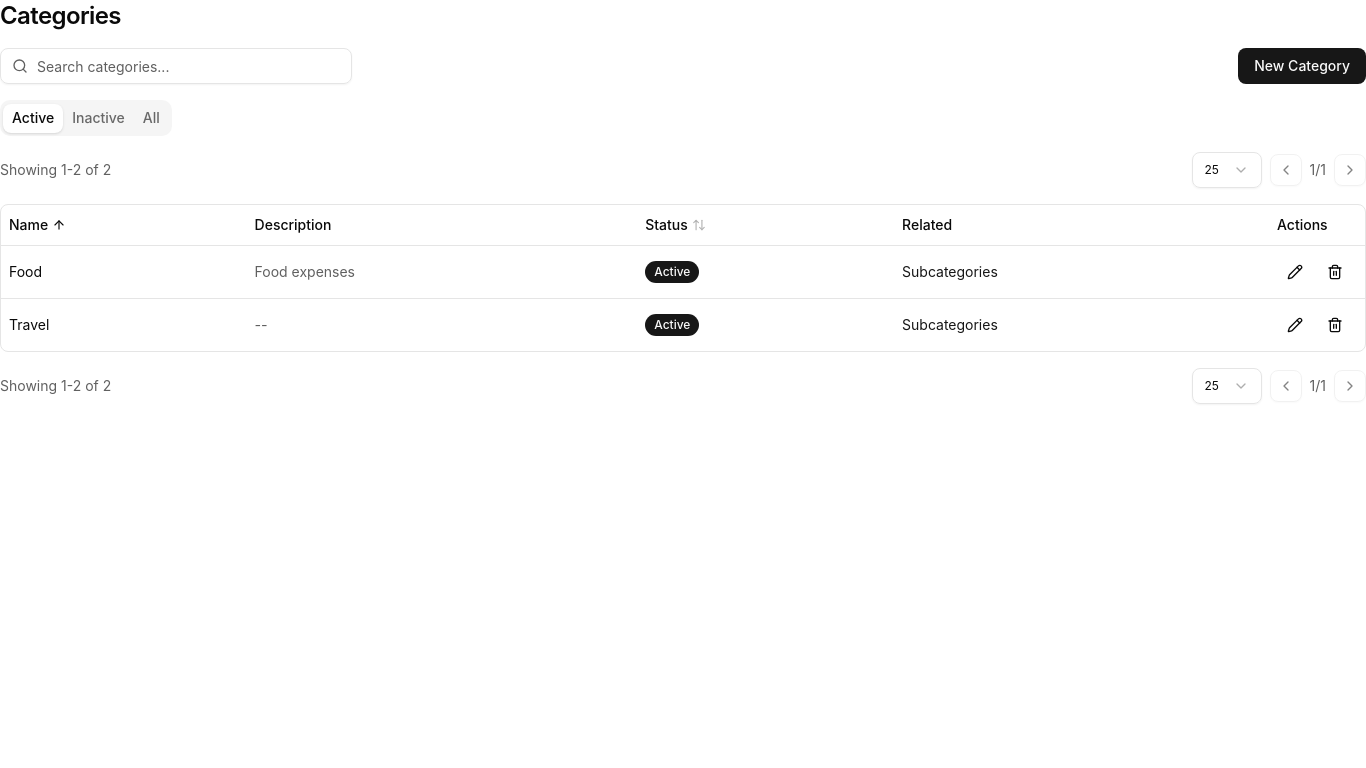
Categories › opens create dialog when New Category button is clicked
Click the button "New Category": (1302, 66) left=1238, top=48, right=1365, bottom=84
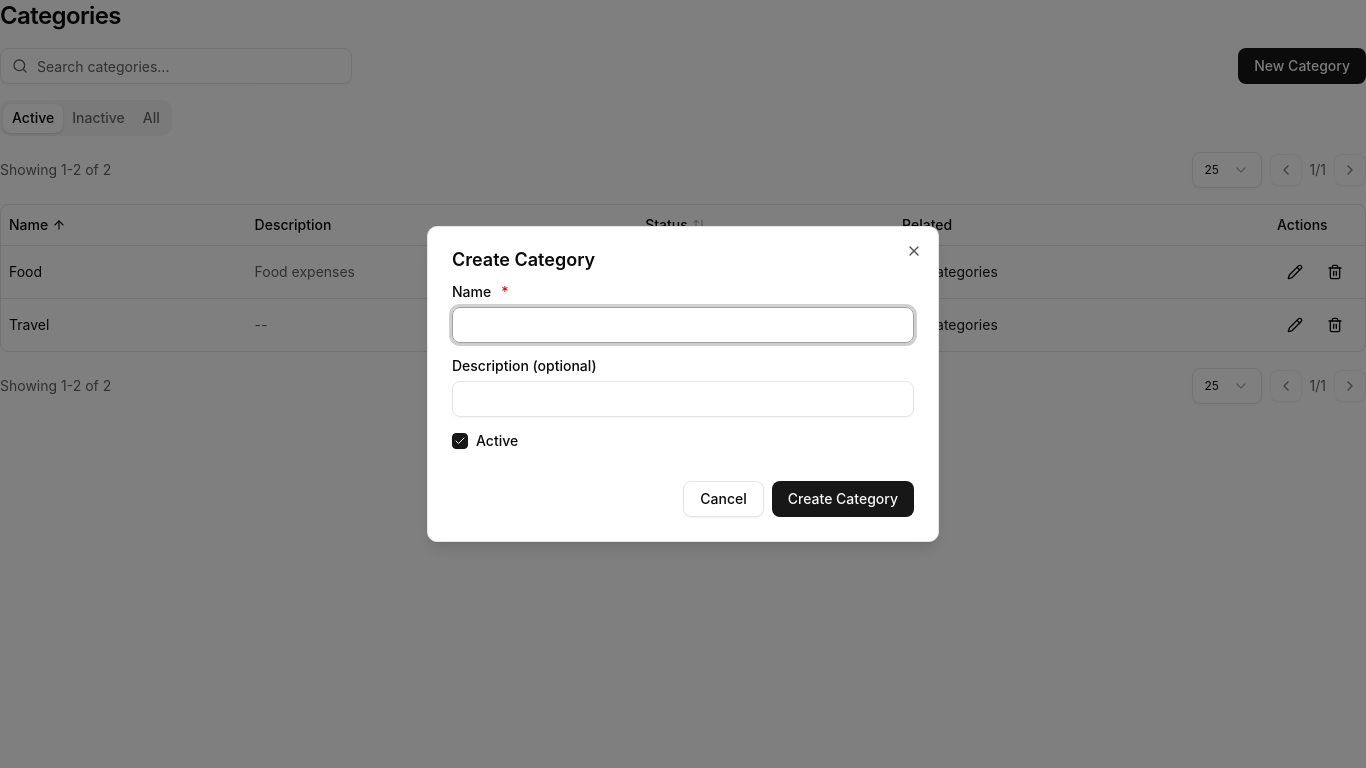
Check: the heading "Create Category" is shown, box left=452, top=249, right=595, bottom=270
